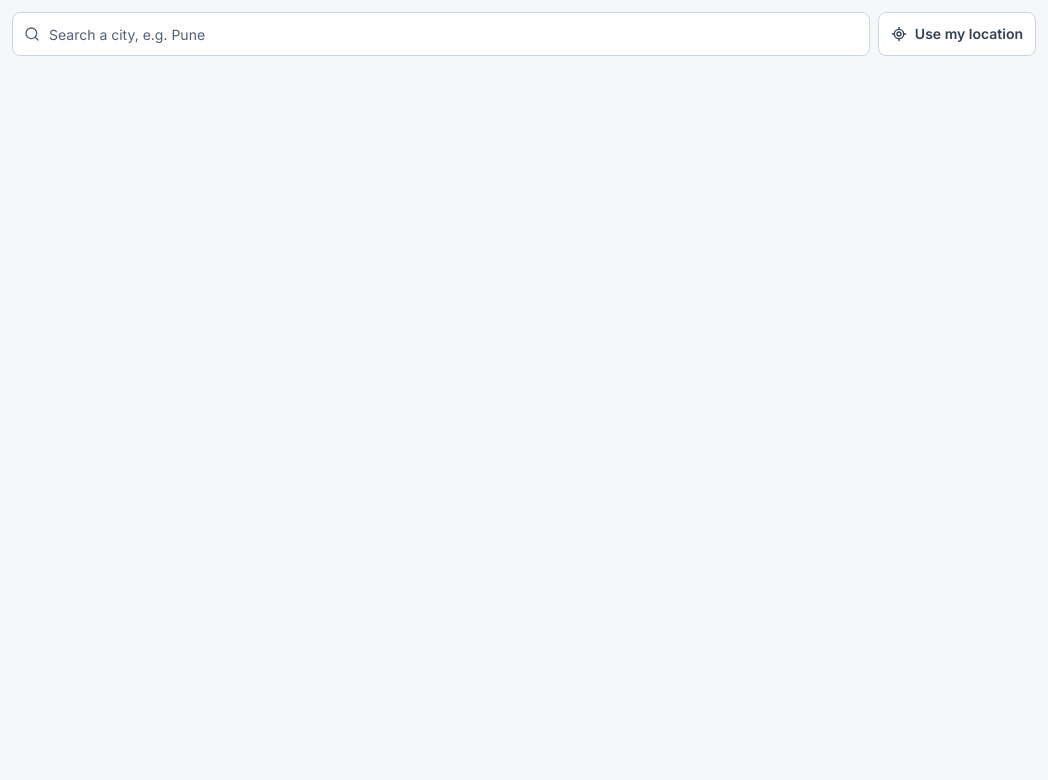
LocationPicker › searches (debounced), supports keyboard selection and saves the place
The image size is (1048, 780).
Type "Pune" into the dropdown named "Search for a city" at (441, 34), box [12, 12, 870, 56]
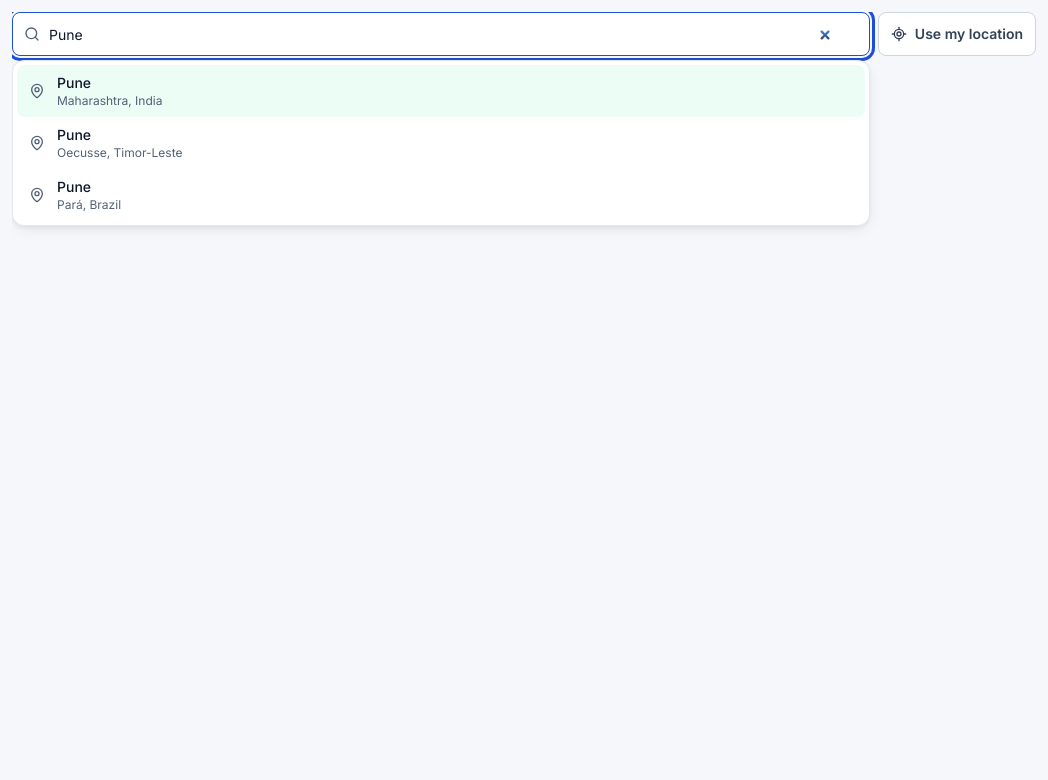
Expected: the dropdown named "Search for a city" is expanded, [12, 12, 870, 56]
Press Enter
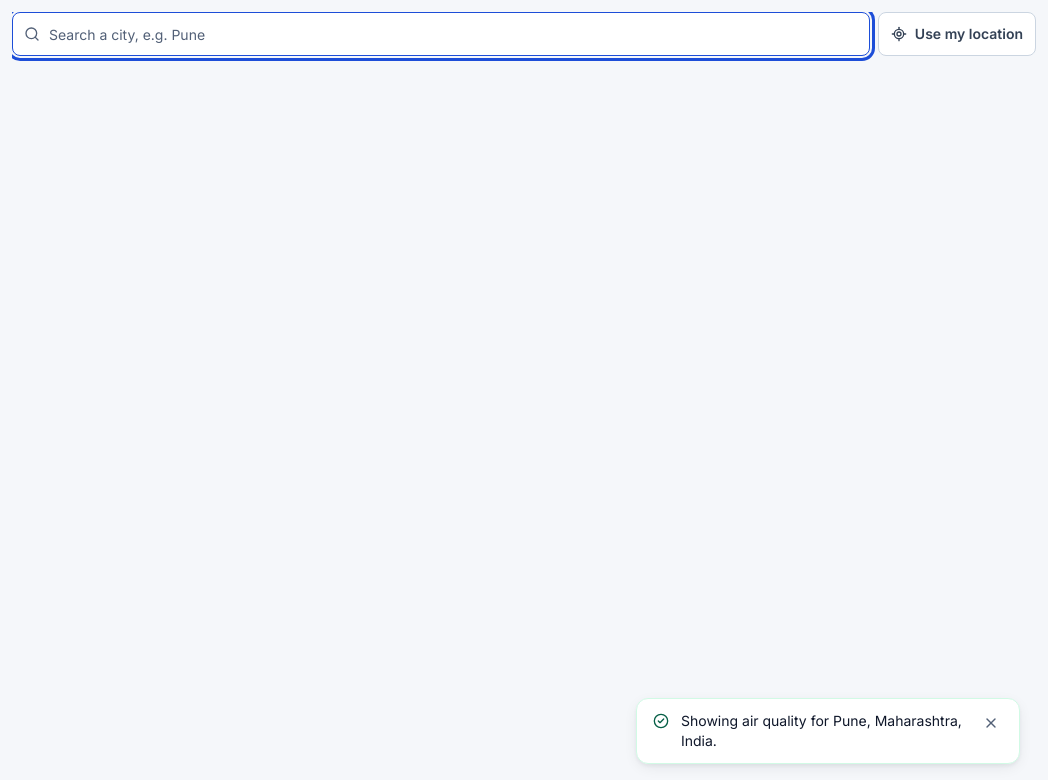
Expected: the text "Showing air quality for Pune, Maharashtra, India." is shown, [681, 711, 967, 751]
